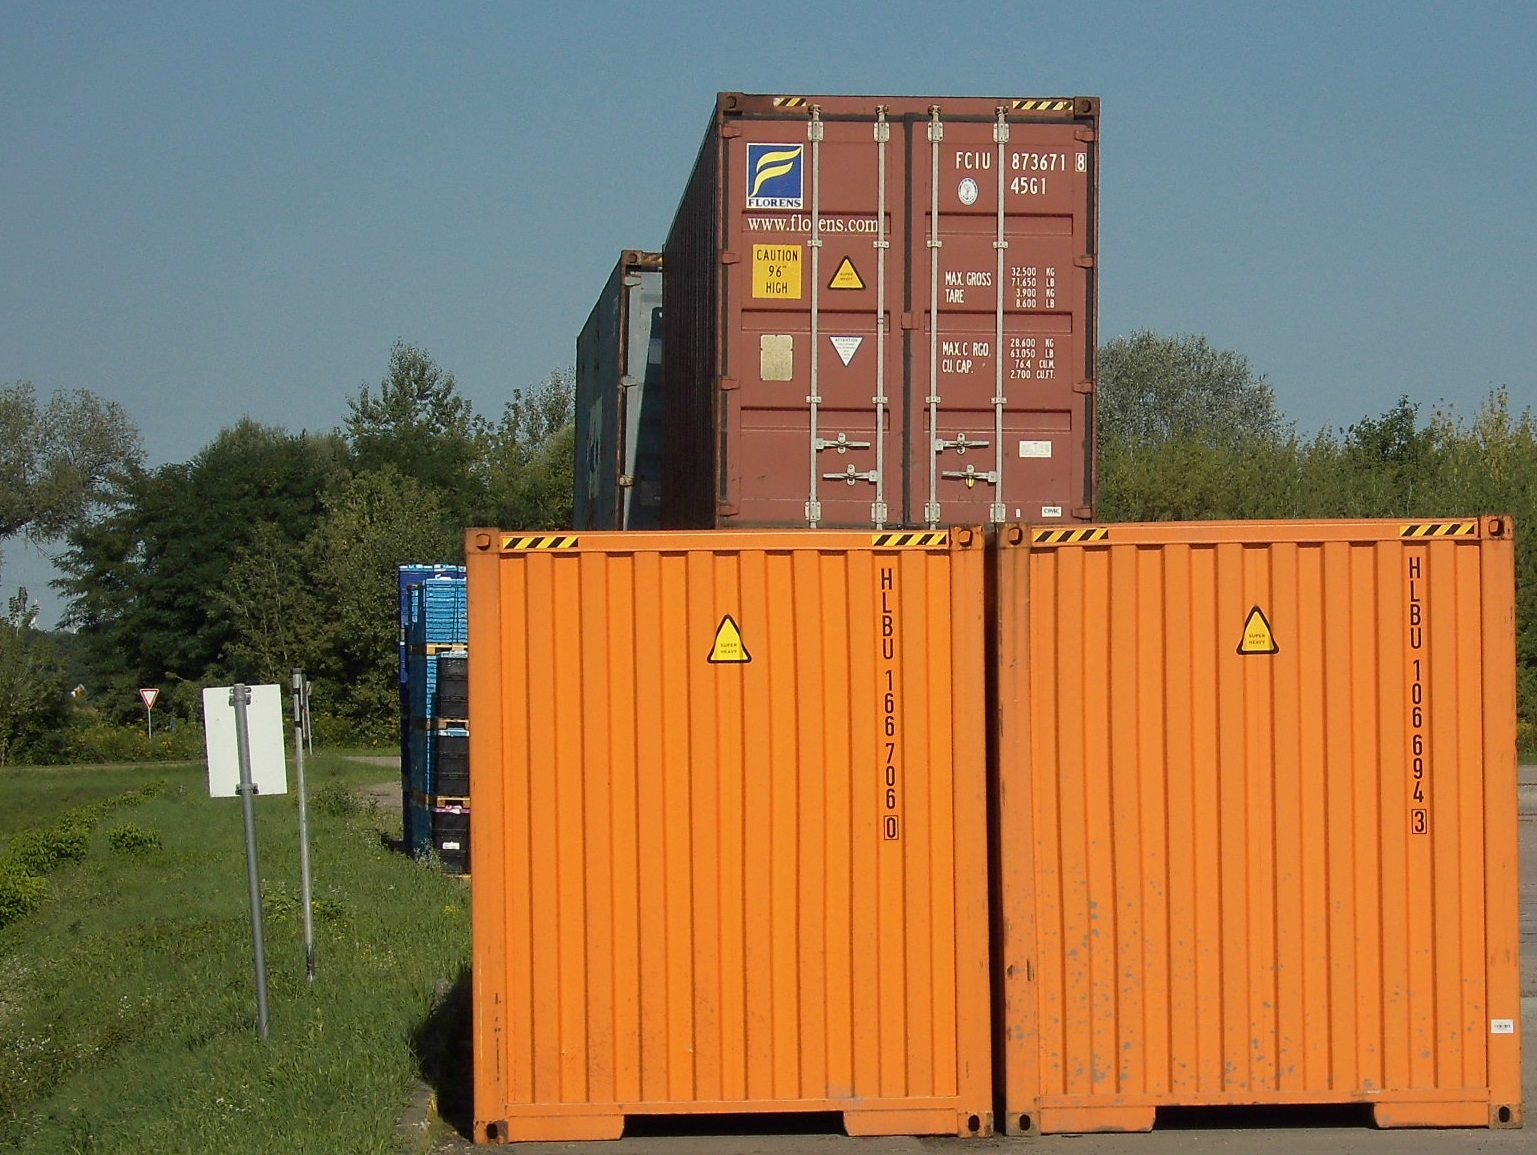container_door: (708, 81, 1097, 519)
container_no_door: (463, 533, 1004, 1139), (975, 517, 1515, 1123)
